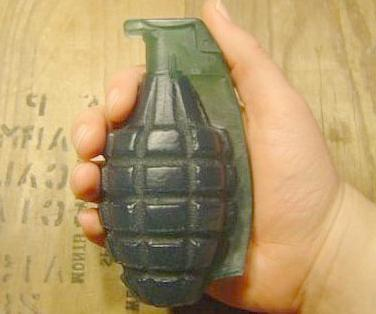Grenade: (99, 18, 252, 309)
